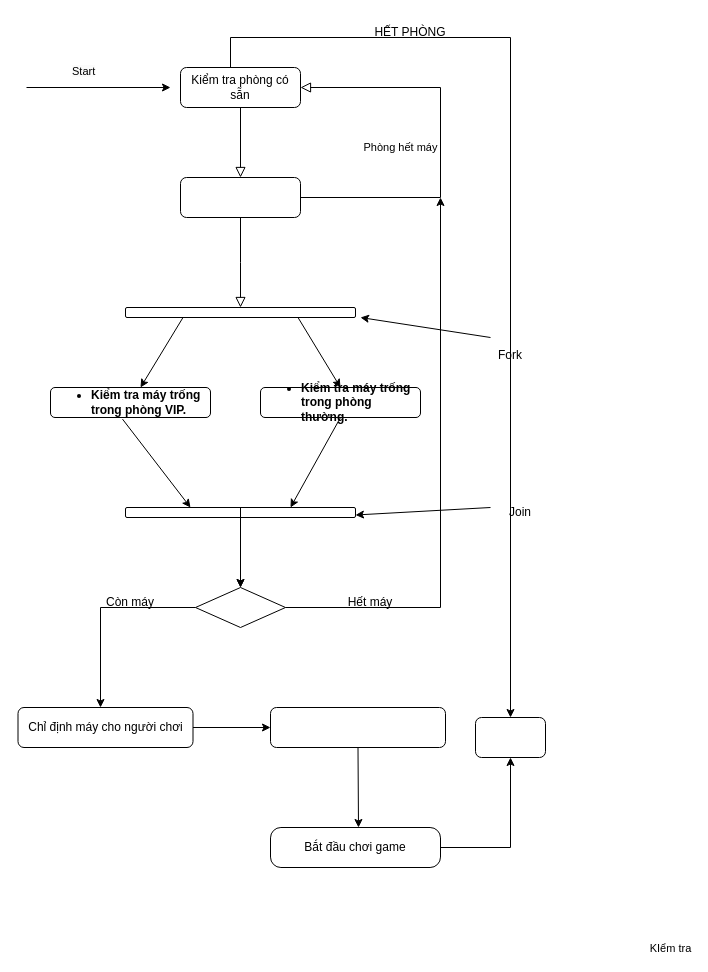
Image size: 708x972. Some labels were removed from this diagram. Here are the shapes that lost their labels. From the top down, the centre of each, then its label:
At (240,197): "Lựa chọn phòng thường hoặc Vip".
At (358,727): "Xác nhận thời gian chơi".
At (510,737): "END".
